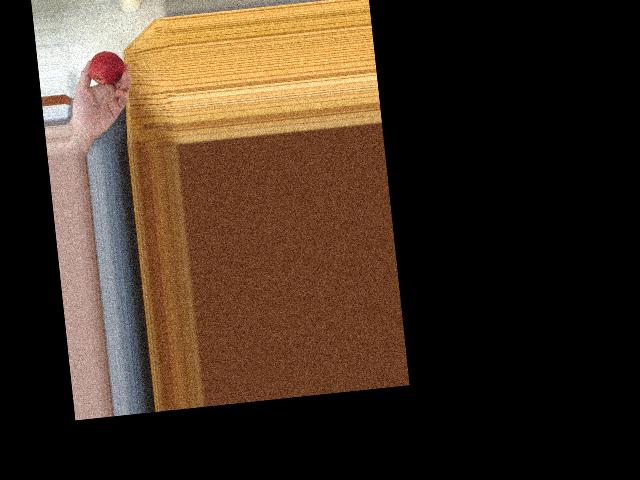apple: (85, 48, 127, 86)
